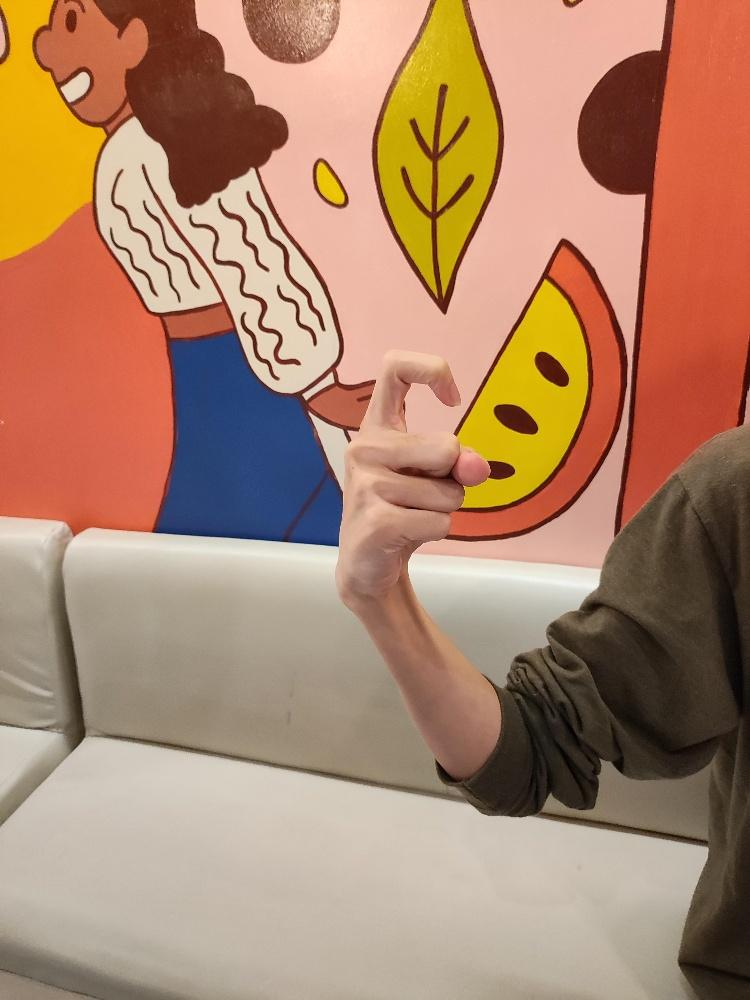x: (330, 344, 494, 606)
